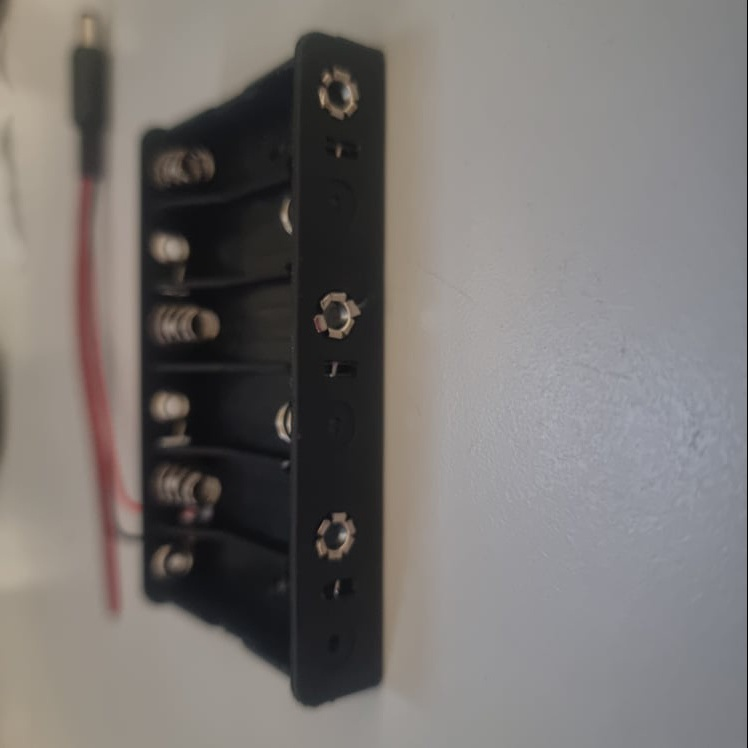BATTERY BOX: (130, 38, 390, 708)
